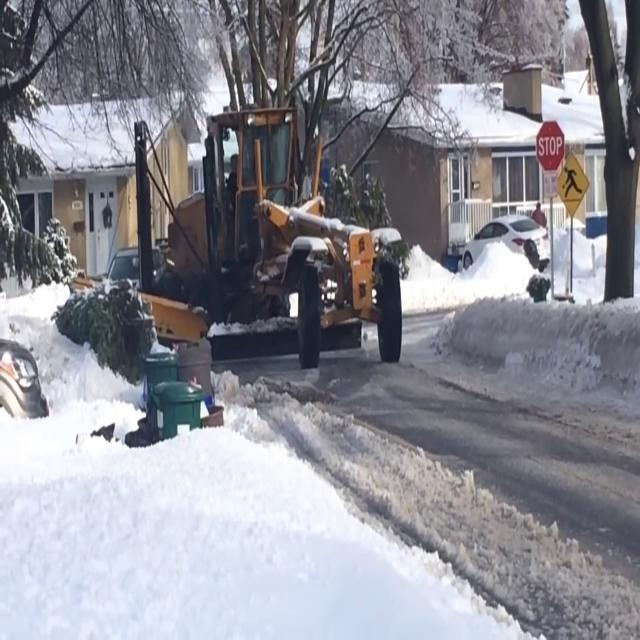buldozerpayloadergrader: (70, 107, 407, 380)
